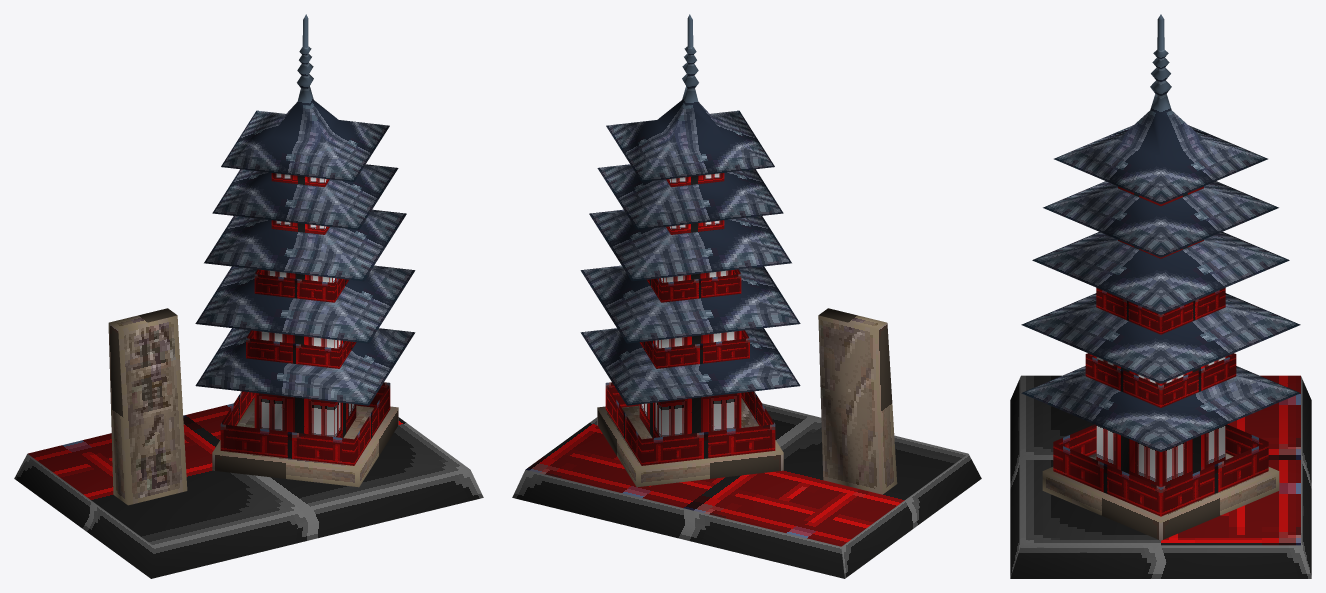
The model's file is int_jhn_gojyu.dae.
3 renders of one model, left to right at view 1: azimuth 30°, elevation 25°; view 2: azimuth 150°, elevation 25°; view 3: azimuth 270°, elevation 25°, orthographic. The views are drawn at different scales.
Visible parts, largest first — view 1: int_jhn_gojyu; view 2: int_jhn_gojyu; view 3: int_jhn_gojyu.
Part boxes in pixels (left/top/right/bottom): int_jhn_gojyu: left=14, top=14, right=483, bottom=578; int_jhn_gojyu: left=512, top=14, right=981, bottom=578; int_jhn_gojyu: left=1010, top=14, right=1311, bottom=578.
Size of the model in its own units: 27.41 by 36.22 by 19.54.
Materials: 3 (3 with a texture image).
